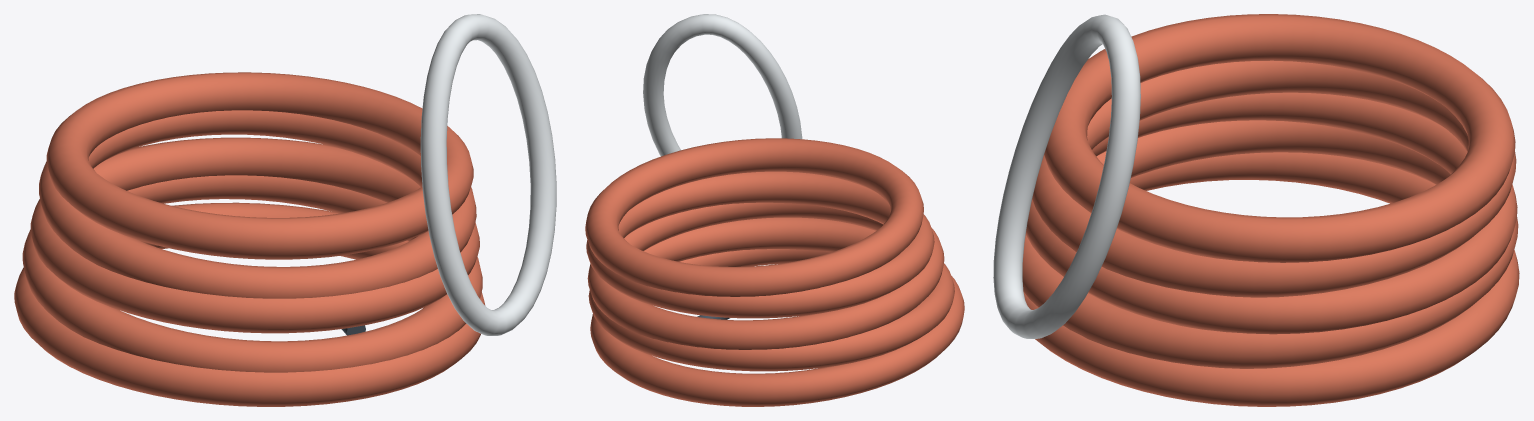
File: rope-carabiner.glb
3 renders of one model, left to right at view 1: azimuth 30°, elevation 25°; view 2: azimuth 150°, elevation 25°; view 3: azimuth 270°, elevation 25°, orthographic. The views are drawn at different scales.
Visible parts, largest first — view 1: titan.rope.coil.4, titan.rope.coil.2, titan.rope.coil.3, titan.rope.coil.1, titan.rope.coil.0, titan.carabiner.body; view 2: titan.rope.coil.4, titan.rope.coil.3, titan.rope.coil.2, titan.rope.coil.1, titan.rope.coil.0, titan.carabiner.body; view 3: titan.rope.coil.4, titan.rope.coil.2, titan.rope.coil.0, titan.rope.coil.3, titan.rope.coil.1, titan.carabiner.body.
Boxes of the visible parts, x1=… form: titan.rope.coil.4: x1=46, y1=72, x2=473, y2=259; titan.rope.coil.2: x1=30, y1=137, x2=479, y2=333; titan.rope.coil.3: x1=39, y1=110, x2=476, y2=298; titan.rope.coil.1: x1=22, y1=175, x2=482, y2=372; titan.rope.coil.0: x1=14, y1=202, x2=485, y2=406; titan.carabiner.body: x1=420, y1=14, x2=556, y2=335; titan.rope.coil.4: x1=585, y1=138, x2=923, y2=296; titan.rope.coil.3: x1=586, y1=171, x2=934, y2=318; titan.rope.coil.2: x1=587, y1=202, x2=944, y2=349; titan.rope.coil.1: x1=588, y1=217, x2=954, y2=371; titan.rope.coil.0: x1=590, y1=249, x2=964, y2=406; titan.carabiner.body: x1=643, y1=14, x2=802, y2=156; titan.rope.coil.4: x1=1044, y1=14, x2=1515, y2=262; titan.rope.coil.2: x1=1026, y1=92, x2=1517, y2=334; titan.rope.coil.0: x1=1023, y1=152, x2=1519, y2=406; titan.rope.coil.3: x1=1032, y1=60, x2=1516, y2=297; titan.rope.coil.1: x1=1022, y1=120, x2=1518, y2=368; titan.carabiner.body: x1=993, y1=14, x2=1140, y2=338.
Bounding box in the file's own units: 1.08 × 0.7764 × 1.01.
